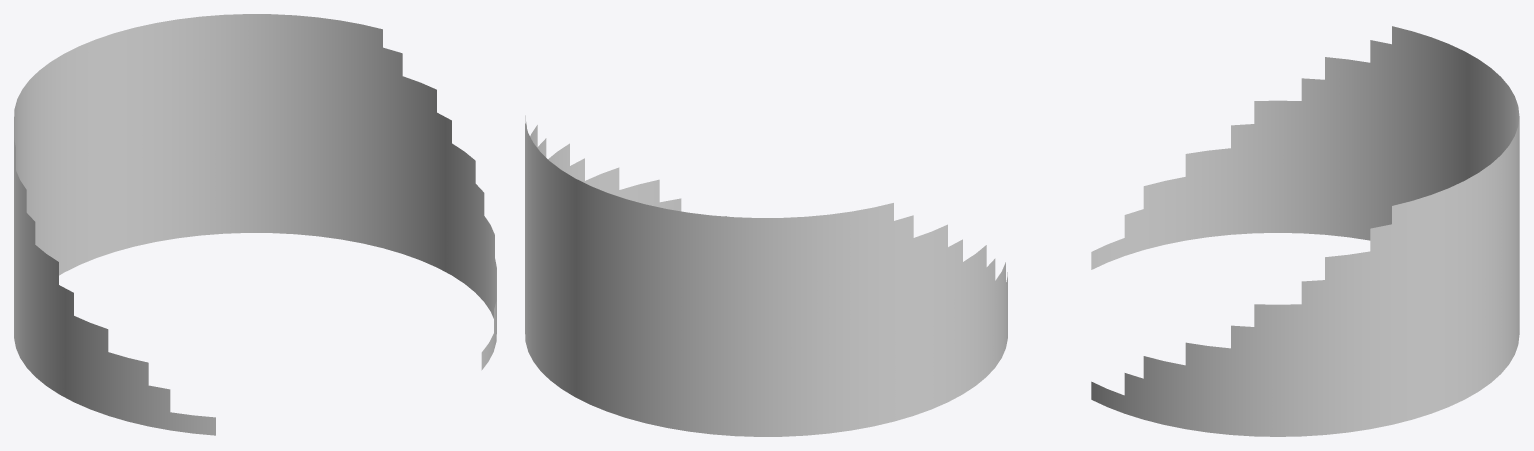
Rendered from goal.obj.
3 renders of one model, left to right at view 1: azimuth 30°, elevation 25°; view 2: azimuth 150°, elevation 25°; view 3: azimuth 270°, elevation 25°, orthographic.
Visible parts, largest first — view 1: cylinder1; view 2: cylinder1; view 3: cylinder1.
Part boxes in pixels (left/top/right/bottom): cylinder1: left=14, top=14, right=496, bottom=435; cylinder1: left=525, top=115, right=1007, bottom=436; cylinder1: left=1091, top=26, right=1519, bottom=436.
Bounding box in the file's own units: 2 × 1 × 2.
Materials: 1 (1 with a texture image).
